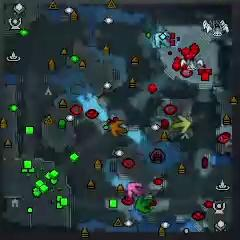x1: (127, 182, 142, 197)
x2: (172, 115, 191, 132)
x3: (155, 31, 171, 48)
x4: (135, 196, 152, 213)
x5: (109, 120, 127, 136)
